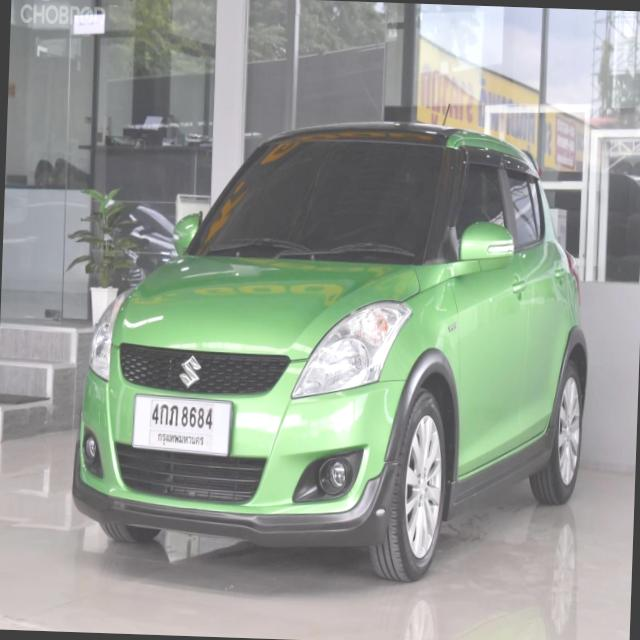license_plate: (131, 392, 234, 459)
